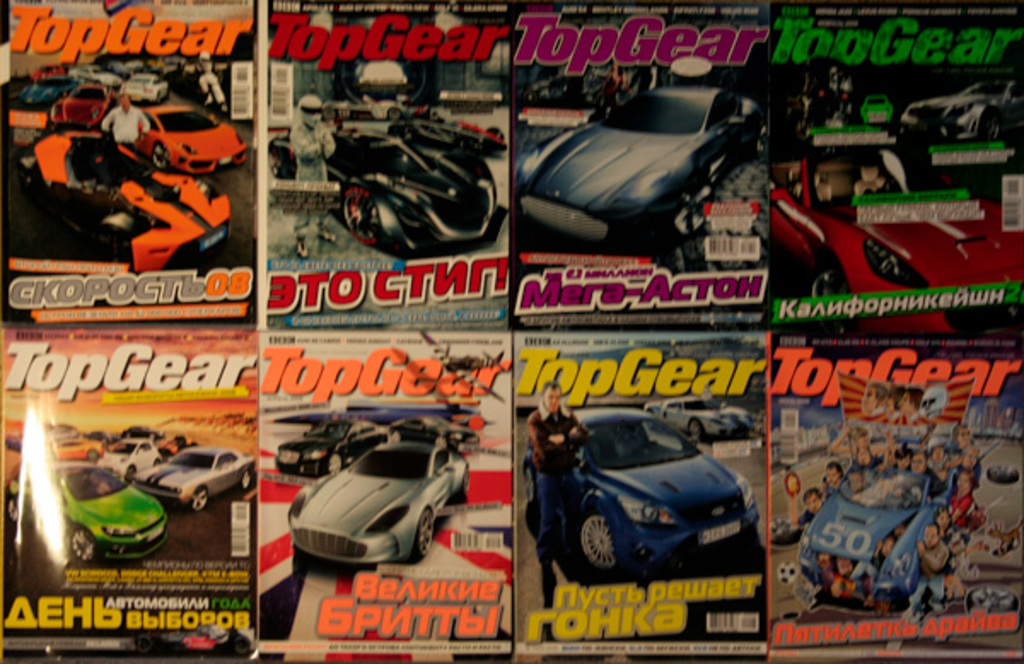Car: (8, 64, 249, 269), (768, 128, 1020, 324), (517, 399, 761, 588), (517, 73, 769, 244), (800, 428, 991, 609), (271, 117, 489, 249), (281, 435, 476, 575), (0, 462, 175, 571), (896, 93, 1015, 182), (276, 404, 401, 476), (380, 99, 506, 158), (134, 447, 250, 510), (640, 399, 756, 448), (394, 407, 481, 459), (93, 435, 160, 476), (851, 93, 899, 124), (49, 433, 100, 462)
